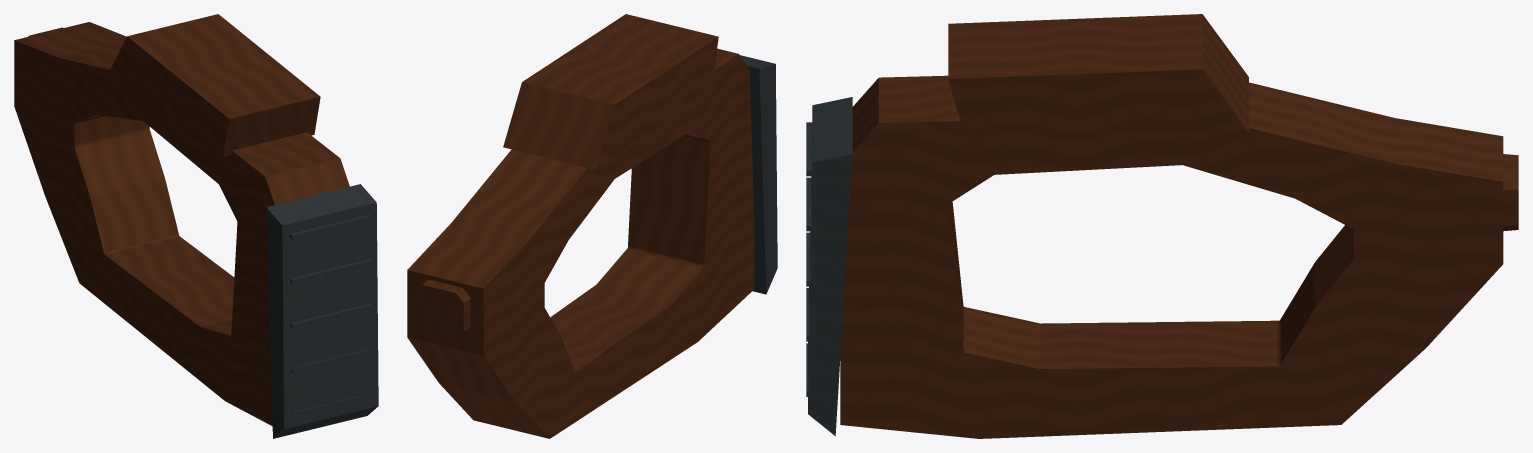
File: svd_stock.glb
The picture shows the model from 3 angles, left to right: view 1: azimuth 30°, elevation 25°; view 2: azimuth 150°, elevation 25°; view 3: azimuth 270°, elevation 25°; orthographic projection. The views are drawn at different scales.
Visible parts, largest first — view 1: stock__svd_stock_LOD0_RAID_Secondary_Original_laminate, stock__svd_stock_LOD1_RAID_Secondary_Original_laminate, stock__svd_stock_LOD0_RAID_Secondary_Original_steel, stock__svd_stock_LOD1_RAID_Secondary_Original_steel; view 2: stock__svd_stock_LOD0_RAID_Secondary_Original_laminate, stock__svd_stock_LOD1_RAID_Secondary_Original_laminate, stock__svd_stock_LOD0_RAID_Secondary_Original_steel, stock__svd_stock_LOD1_RAID_Secondary_Original_steel; view 3: stock__svd_stock_LOD0_RAID_Secondary_Original_laminate, stock__svd_stock_LOD1_RAID_Secondary_Original_laminate, stock__svd_stock_LOD0_RAID_Secondary_Original_steel, stock__svd_stock_LOD1_RAID_Secondary_Original_steel.
Boxes of the visible parts, x1=… form: stock__svd_stock_LOD0_RAID_Secondary_Original_laminate: x1=15, y1=16, x2=348, y2=424; stock__svd_stock_LOD1_RAID_Secondary_Original_laminate: x1=14, y1=14, x2=349, y2=426; stock__svd_stock_LOD0_RAID_Secondary_Original_steel: x1=266, y1=185, x2=376, y2=435; stock__svd_stock_LOD1_RAID_Secondary_Original_steel: x1=266, y1=184, x2=378, y2=438; stock__svd_stock_LOD0_RAID_Secondary_Original_laminate: x1=408, y1=15, x2=753, y2=437; stock__svd_stock_LOD1_RAID_Secondary_Original_laminate: x1=407, y1=14, x2=754, y2=438; stock__svd_stock_LOD0_RAID_Secondary_Original_steel: x1=741, y1=56, x2=776, y2=292; stock__svd_stock_LOD1_RAID_Secondary_Original_steel: x1=740, y1=55, x2=777, y2=294; stock__svd_stock_LOD0_RAID_Secondary_Original_laminate: x1=842, y1=15, x2=1518, y2=437; stock__svd_stock_LOD1_RAID_Secondary_Original_laminate: x1=840, y1=14, x2=1503, y2=438; stock__svd_stock_LOD0_RAID_Secondary_Original_steel: x1=806, y1=119, x2=851, y2=396; stock__svd_stock_LOD1_RAID_Secondary_Original_steel: x1=808, y1=97, x2=852, y2=435.
Bounding box in the file's own units: 0.088 × 0.268 × 0.462.
Materials: 2 (2 with a texture image).
